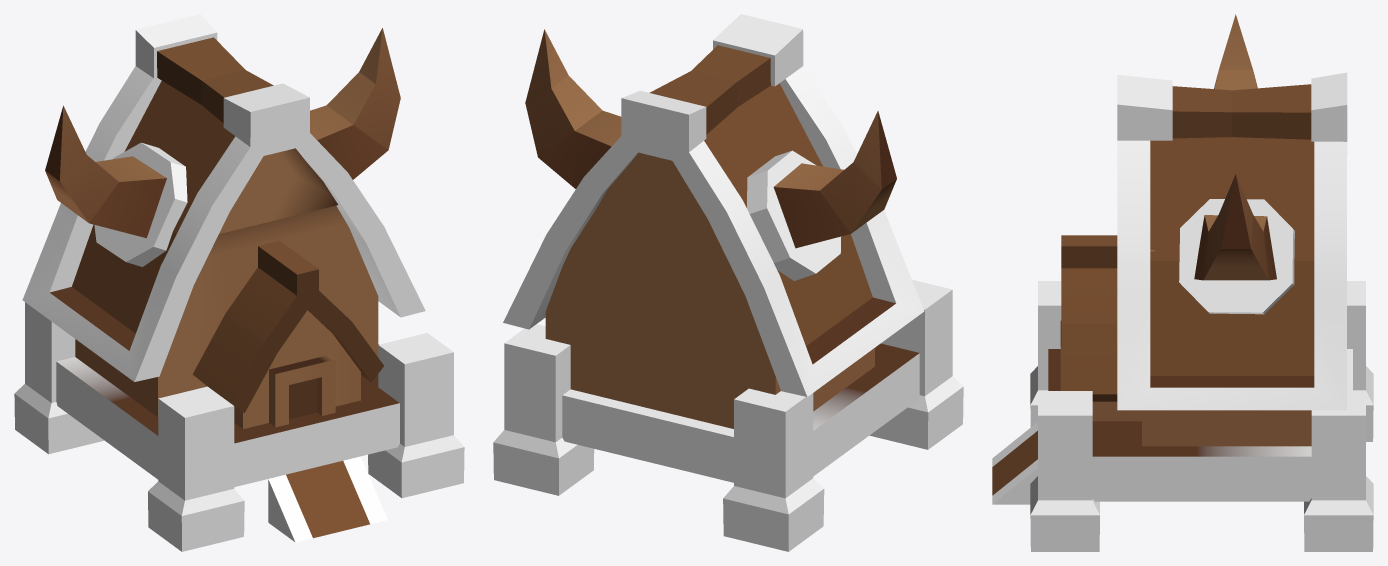
Rendered from Building_CityHall_Lv10.fbx.
3 renders of one model, left to right at view 1: azimuth 30°, elevation 25°; view 2: azimuth 150°, elevation 25°; view 3: azimuth 270°, elevation 25°, orthographic. The views are drawn at different scales.
Parts seen in each view (by area): view 1: Building_CityHall_Lv10; view 2: Building_CityHall_Lv10; view 3: Building_CityHall_Lv10.
Part boxes in pixels (x1=…): Building_CityHall_Lv10: x1=14, y1=14, x2=464, y2=551; Building_CityHall_Lv10: x1=493, y1=14, x2=963, y2=551; Building_CityHall_Lv10: x1=992, y1=14, x2=1373, y2=551.
Bounding box in the file's own units: 1.05 × 1.13 × 0.9932.
